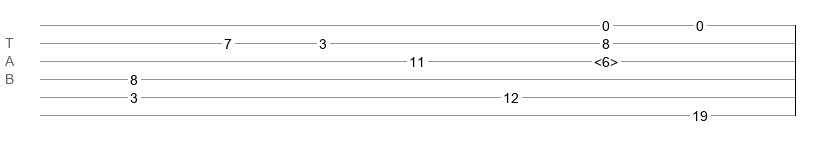0: (602, 18, 610, 28), (696, 18, 704, 28)
11: (409, 54, 425, 64)
12: (503, 90, 519, 100)
19: (692, 108, 708, 118)
3: (130, 90, 138, 100), (319, 36, 327, 46)
7: (224, 36, 232, 46)
8: (130, 72, 138, 82), (602, 36, 610, 46)
harmonic: (594, 54, 618, 64)
